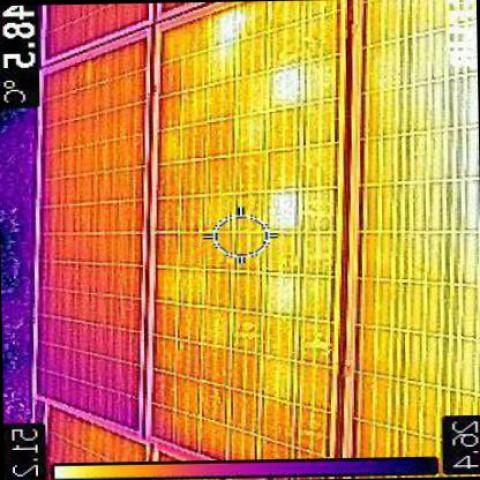fault: (214, 14, 246, 50), (273, 193, 297, 227), (273, 68, 299, 98)
